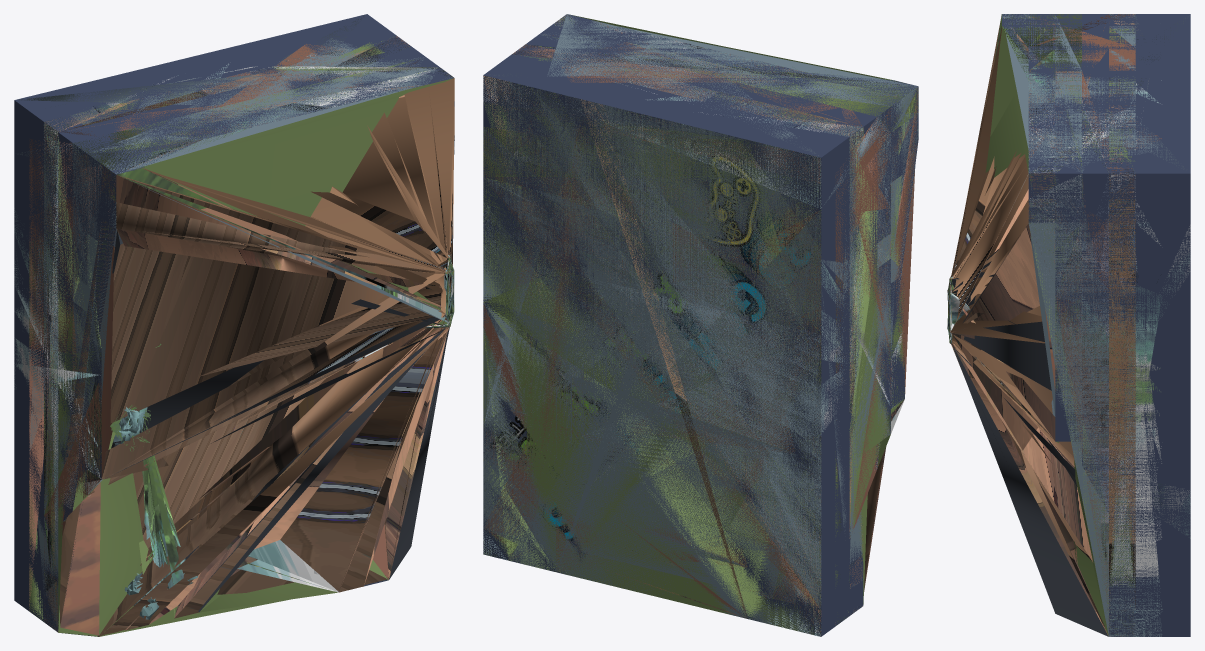
File: mill-scene.obj
The picture shows the model from 3 angles, left to right: view 1: azimuth 30°, elevation 25°; view 2: azimuth 150°, elevation 25°; view 3: azimuth 270°, elevation 25°; orthographic projection. The views are drawn at different scales.
Visible parts, largest first — view 1: house-front-door-diffuse, grid-floor-diffuse, tree-bow-diffuse, rock-diffuse, wheel-diffuse, earth-diffuse, tree-branch-diffuse, weather-vane-diffuse, house-roof-diffuse, banner-diffuse, house-diffuse; view 2: rock-diffuse, grid-floor-diffuse, tree-bow-diffuse, tree-branch-diffuse, earth-diffuse, house-roof-diffuse, house-front-door-diffuse, banner-diffuse, weather-vane-diffuse, wheel-diffuse; view 3: grid-floor-diffuse, rock-diffuse, house-front-door-diffuse, earth-diffuse, wheel-diffuse, tree-bow-diffuse, weather-vane-diffuse, tree-branch-diffuse, house-diffuse, banner-diffuse, house-roof-diffuse.
Boxes of the visible parts, x1,y1,x2,y2 form: house-front-door-diffuse: (59,78,454,636); grid-floor-diffuse: (14,14,454,632); tree-bow-diffuse: (29,41,454,636); rock-diffuse: (15,14,451,631); wheel-diffuse: (45,51,454,630); earth-diffuse: (14,55,454,625); tree-branch-diffuse: (29,44,425,628); weather-vane-diffuse: (44,38,454,636); house-roof-diffuse: (44,36,450,635); banner-diffuse: (62,94,352,510); house-diffuse: (44,85,347,622); rock-diffuse: (483,15,918,635); grid-floor-diffuse: (483,14,918,636); tree-bow-diffuse: (483,14,918,634); tree-branch-diffuse: (483,23,917,629); earth-diffuse: (483,14,918,636); house-roof-diffuse: (484,42,918,623); house-front-door-diffuse: (483,76,882,618); banner-diffuse: (653,38,918,468); weather-vane-diffuse: (509,18,904,594); wheel-diffuse: (517,15,889,631); grid-floor-diffuse: (1002,14,1190,636); rock-diffuse: (950,14,1189,636); house-front-door-diffuse: (947,19,1135,631); earth-diffuse: (947,14,1190,636); wheel-diffuse: (949,14,1135,634); tree-bow-diffuse: (947,14,1135,635); weather-vane-diffuse: (951,30,1135,636); tree-branch-diffuse: (1028,14,1161,606); house-diffuse: (1009,27,1135,636); banner-diffuse: (1002,26,1055,127); house-roof-diffuse: (949,27,1134,636).
Size of the model in its own units: 14.1 by 19.1 by 9.08.
